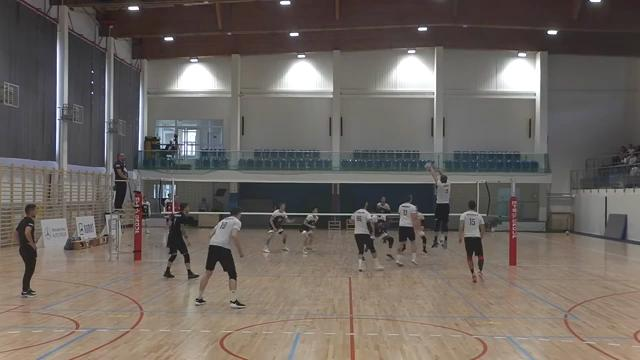muro: (422, 162, 453, 252)
